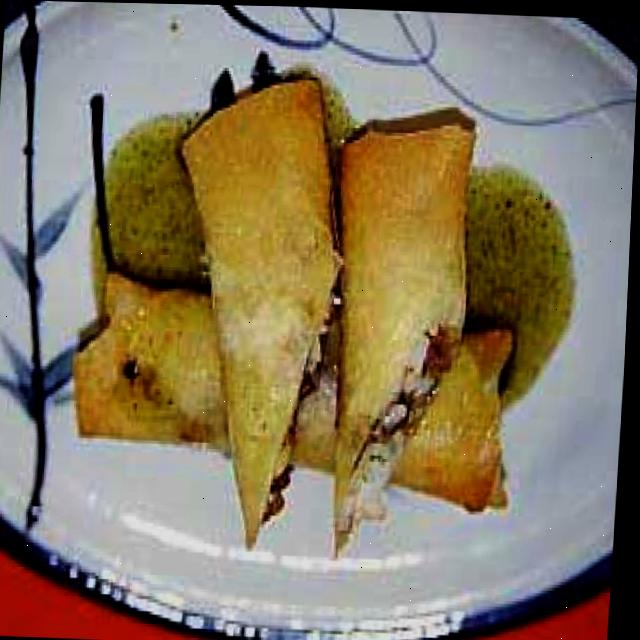鸡蛋料理: (62, 58, 547, 559)
